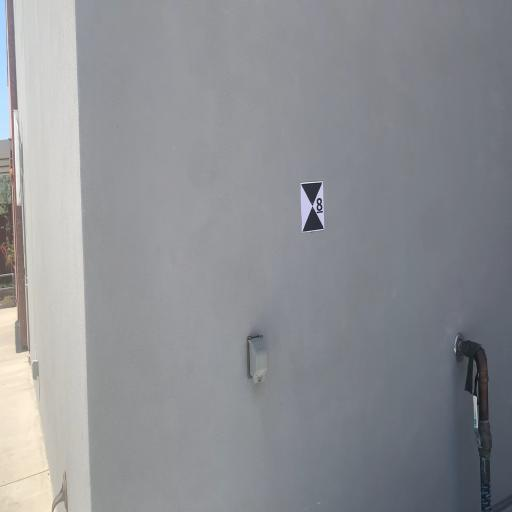target8: (301, 181, 325, 233)
